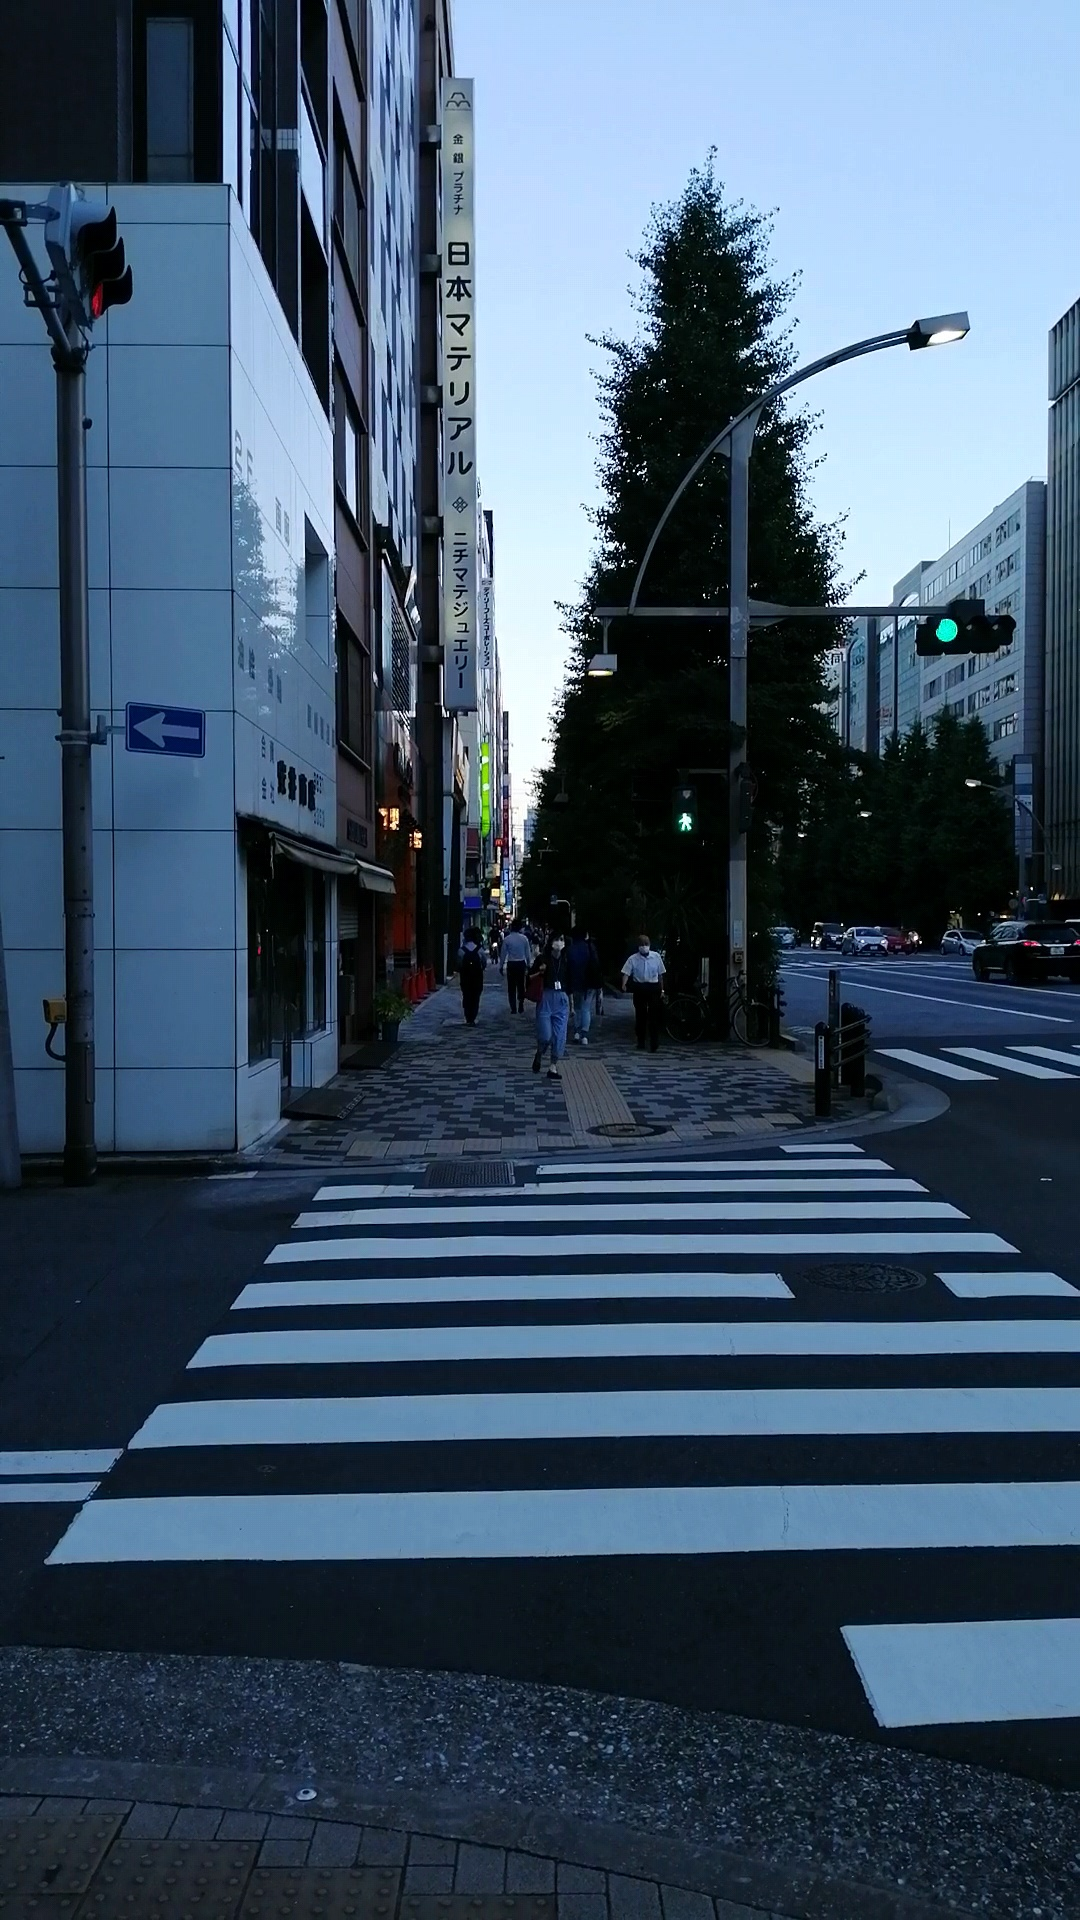green: (666, 778, 704, 844)
